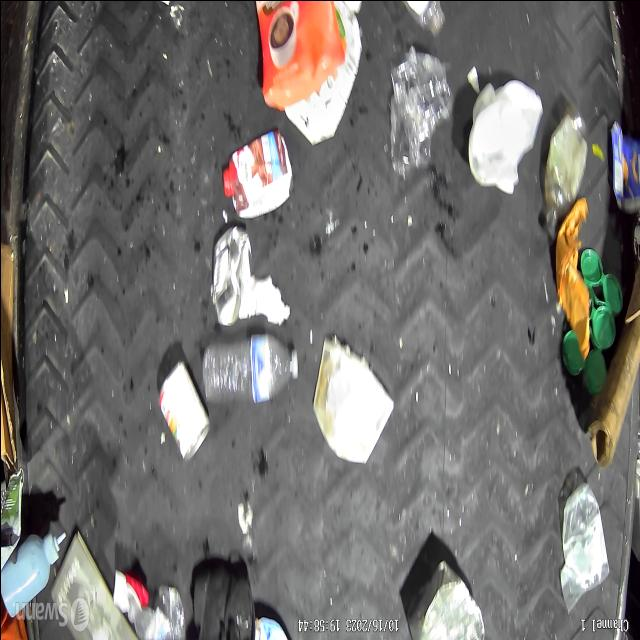can: (407, 549, 489, 640), (156, 352, 208, 460)
milk_jug: (468, 80, 545, 200)
non_white_jug: (250, 0, 346, 105)
plastic_bottle: (200, 326, 302, 407)
